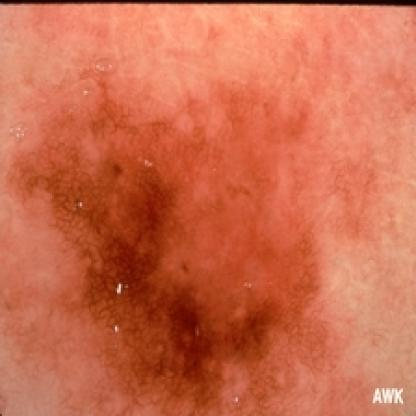Skin_Cancer-Malignant: (0, 122, 335, 416)
